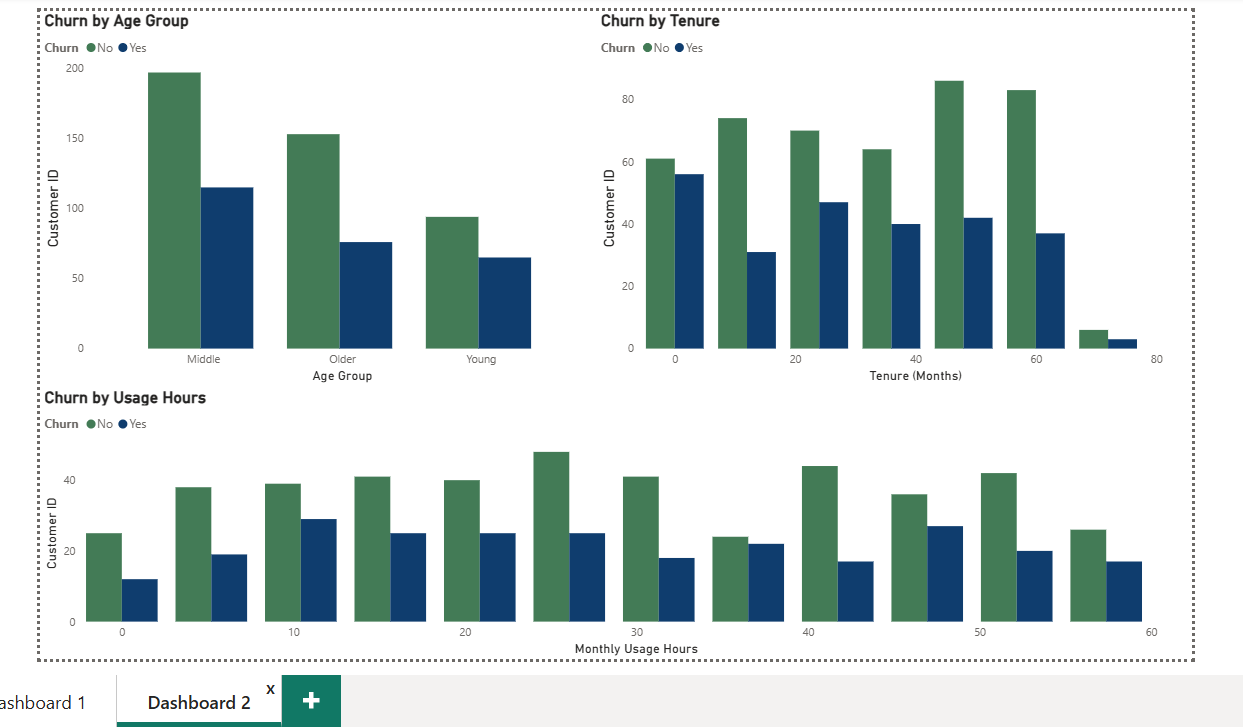

The page's visual inventory and layout, read from the dashboard file:
{"tool":"powerbi","page":{"name":"Dashboard 2","canvas":[1280,720],"ordinal":1},"visuals":[{"type":"clusteredColumnChart","title":"Churn by Age Group ","fields":{"Series":["Customer_Data.Churn"],"Category":["Customer_Data.Age_Group"],"Y":["CountNonNull(Customer_Data.Customer_ID)"]},"box":[0,0,618.5,417.8],"z":0},{"type":"clusteredColumnChart","title":"Churn by Tenure","fields":{"Category":["Customer_Data.Tenure_Months (bins)"],"Series":["Customer_Data.Churn"],"Y":["CountNonNull(Customer_Data.Customer_ID)"]},"box":[618.5,0,662.3,417.8],"z":1000},{"type":"clusteredColumnChart","title":"Churn by Usage Hours","fields":{"Series":["Customer_Data.Churn"],"Y":["CountNonNull(Customer_Data.Customer_ID)"],"Category":["Customer_Data.Monthly_Usage_Hours (bins)"]},"box":[0,417.8,1280.8,302.8],"z":2000}]}

Visuals, with their boxes on the page's 1280x720 design canvas (x1, y1, x2, y2). These are canvas units, not pixel positions in the 1243x727 screenshot, which may show the page scaled, cropped or inside an application window:
"Churn by Age Group " clusteredColumnChart: bbox=(0, 0, 618, 418)
"Churn by Tenure" clusteredColumnChart: bbox=(618, 0, 1281, 418)
"Churn by Usage Hours" clusteredColumnChart: bbox=(0, 418, 1281, 721)
